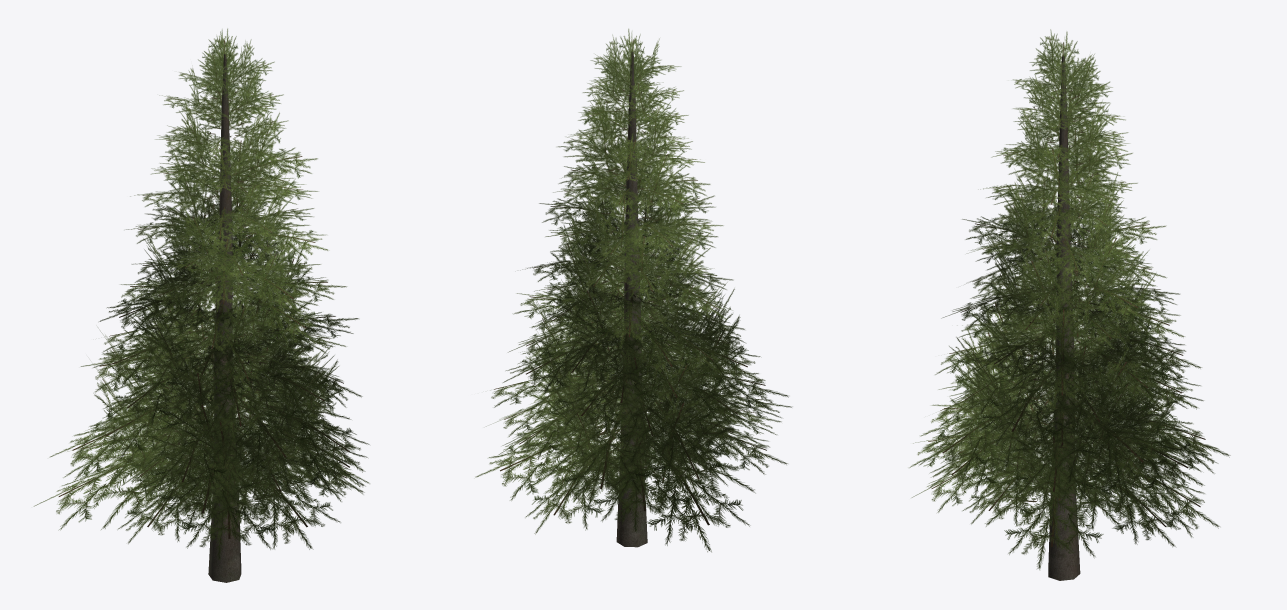
Rendered from arvore_pinheiro.glb.
3 renders of one model, left to right at view 1: azimuth 30°, elevation 25°; view 2: azimuth 150°, elevation 25°; view 3: azimuth 270°, elevation 25°, orthographic. The views are drawn at different scales.
Parts seen in each view (by area): view 1: Folhas, Tronco; view 2: Folhas, Tronco; view 3: Folhas, Tronco.
Part boxes in pixels (x1,y1,x2,y2): Folhas: (33,28,369,561); Tronco: (208,54,241,582); Folhas: (475,28,792,552); Tronco: (616,51,647,547); Folhas: (909,29,1230,569); Tronco: (1048,56,1080,580).
Size of the model in its own units: 5.96 by 8.58 by 5.89.
2 materials, 2 textured.
